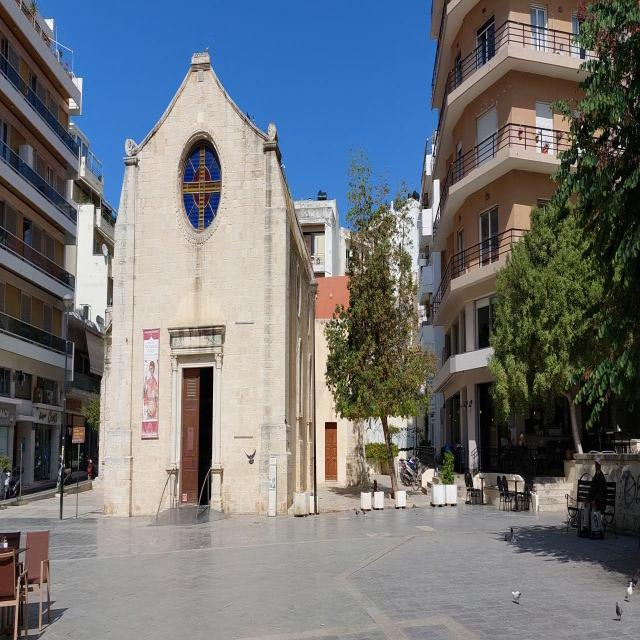Agia Aikaterini: (97, 51, 319, 527)
